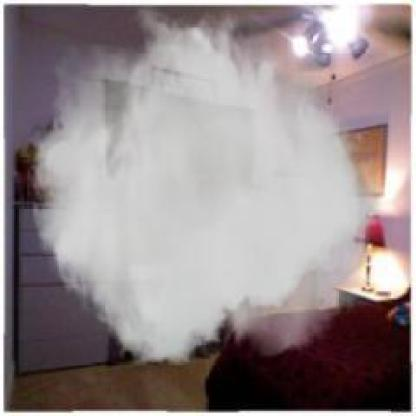Smoke: (28, 0, 380, 364)
